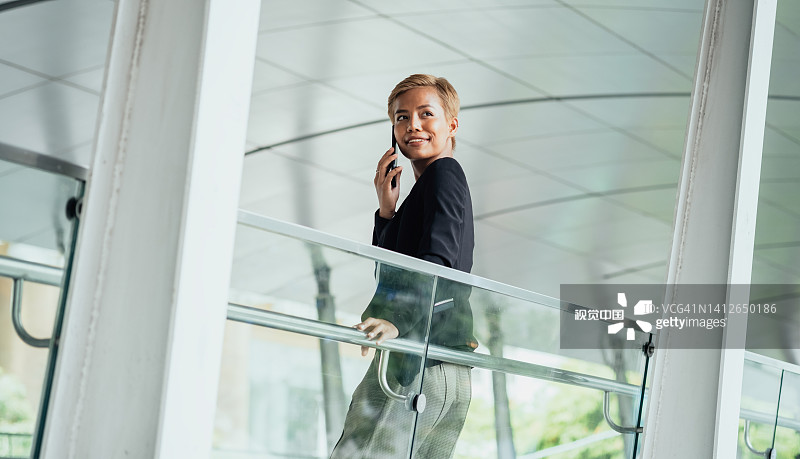calling: (370, 122, 410, 221)
